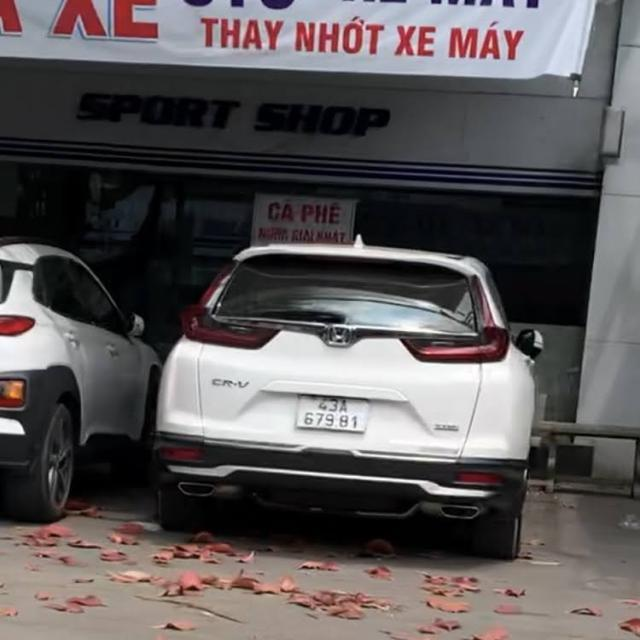car: (165, 241, 505, 547), (0, 231, 167, 529)
plate: (287, 389, 378, 439)
